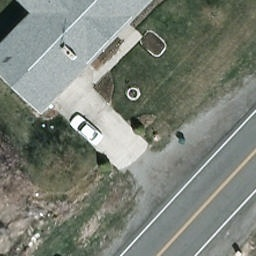car: (69, 114, 104, 149)
